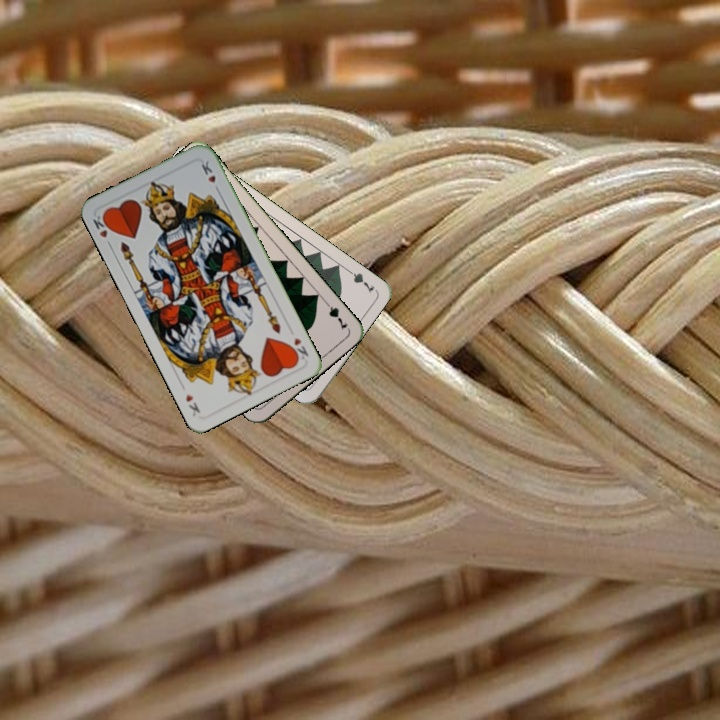G7: (342, 264, 377, 296), (320, 296, 350, 332)
HK: (89, 210, 115, 250), (286, 333, 311, 363)
